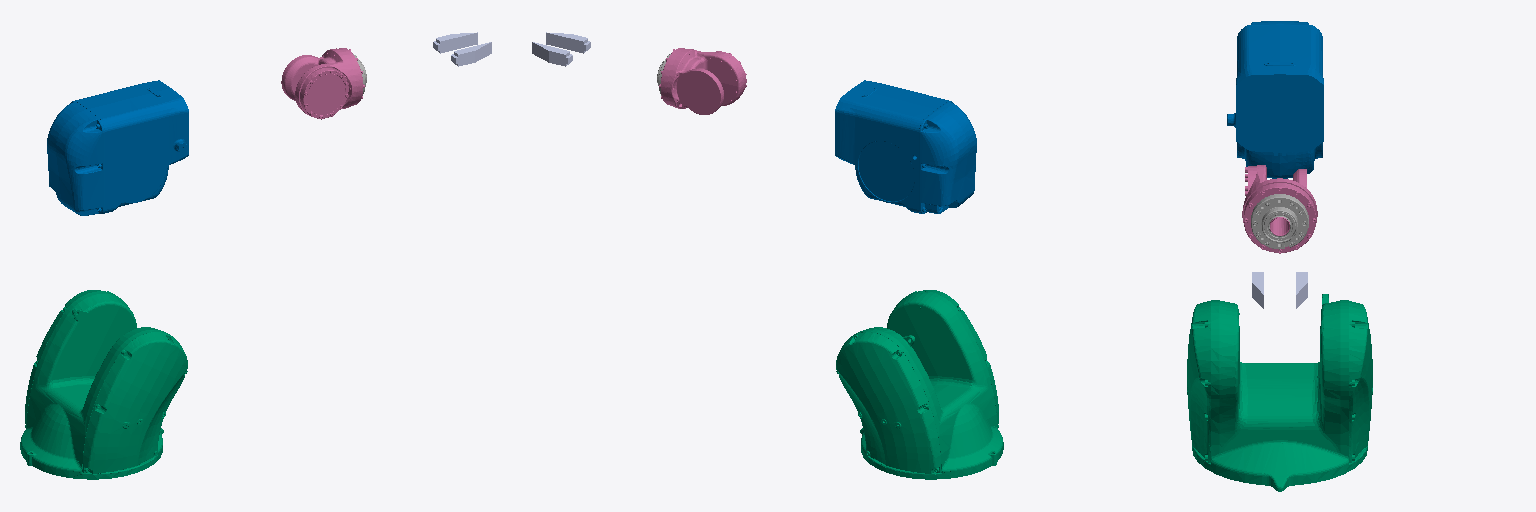
robot.urdf — mz07:
<?xml version="1.0" ?>
<!-- =================================================================================== -->
<!-- |    This document was autogenerated by xacro from [local-path]/catkin_ws/src/ee_assem/robots/mz07/mz07.urdf.xacro | -->
<!-- |    EDITING THIS FILE BY HAND IS NOT RECOMMENDED                                 | -->
<!-- =================================================================================== -->
<robot name="mz07">
    <material name="black">
        <color rgba="0.0 0.0 0.0 1.0" />
    </material>
    <material name="blue">
        <color rgba="0.0 0.0 0.8 1.0" />
    </material>
    <material name="green">
        <color rgba="0.0 0.8 0.0 1.0" />
    </material>
    <material name="grey">
        <color rgba="0.2 0.2 0.2 1.0" />
    </material>
    <material name="orange">
        <color rgba="1.0 0.4235294117647059 0.0392156862745098 1.0" />
    </material>
    <material name="brown">
        <color rgba="0.8705882352941177 0.8117647058823529 0.7647058823529411 1.0" />
    </material>
    <material name="red">
        <color rgba="0.8 0.0 0.0 1.0" />
    </material>
    <material name="white">
        <color rgba="1.0 1.0 1.0 1.0" />
    </material>
    <!-- Link -->
    <link name="world" />
    <link name="base_link">
        <visual>
            <geometry>
                <mesh filename="package://nachi_description/meshes/mz07/visual/base_link.dae" />
            </geometry>
        </visual>
        <collision>
            <geometry>
                <mesh filename="package://nachi_description/meshes/mz07/collision/base_link.stl" />
            </geometry>
        </collision>
        <inertial>
            <mass value="9.522365" />
            <inertia ixx="0.144495" ixy="-9e-06" ixz="-0.03076" iyy="0.183352" iyz="-3.7e-05" izz="0.079873" />
            <origin xyz="0 0 0" rpy="0 0 0" />
        </inertial>
    </link>
    <link name="link_1">
        <visual>
            <geometry>
                <mesh filename="package://nachi_description/meshes/mz07/visual/link_1.dae" />
            </geometry>
        </visual>
        <collision>
            <geometry>
                <mesh filename="package://nachi_description/meshes/mz07/collision/link_1.stl" />
            </geometry>
        </collision>
        <inertial>
            <mass value="5.61696" />
            <inertia ixx="0.087433" ixy="0.0" ixz="0.013287" iyy="0.073064" iyz="1.9e-05" izz="0.039829" />
            <origin xyz="0 0 0" rpy="0 0 0" />
        </inertial>
    </link>
    <link name="link_2">
        <visual>
            <geometry>
                <mesh filename="package://nachi_description/meshes/mz07/visual/link_2.dae" />
            </geometry>
        </visual>
        <collision>
            <geometry>
                <mesh filename="package://nachi_description/meshes/mz07/collision/link_2.stl" />
            </geometry>
        </collision>
        <inertial>
            <mass value="7.350069" />
            <inertia ixx="0.299465" ixy="-1e-05" ixz="-0.012735" iyy="0.279554" iyz="5.3e-05" izz="0.035911" />
            <origin xyz="0 0 0" rpy="0 0 0" />
        </inertial>
    </link>
    <link name="link_3">
        <visual>
            <geometry>
                <mesh filename="package://nachi_description/meshes/mz07/visual/link_3.dae" />
            </geometry>
        </visual>
        <collision>
            <geometry>
                <mesh filename="package://nachi_description/meshes/mz07/collision/link_3.stl" />
            </geometry>
        </collision>
        <inertial>
            <mass value="3.724767" />
            <inertia ixx="0.011733" ixy="4.3e-05" ixz="0.000461" iyy="0.019531" iyz="2.4e-05" izz="0.014154" />
            <origin xyz="0 0 0" rpy="0 0 0" />
        </inertial>
    </link>
    <link name="link_4">
        <visual>
            <geometry>
                <mesh filename="package://nachi_description/meshes/mz07/visual/link_4.dae" />
            </geometry>
        </visual>
        <collision>
            <geometry>
                <mesh filename="package://nachi_description/meshes/mz07/collision/link_4.stl" />
            </geometry>
        </collision>
        <inertial>
            <mass value="3.245188" />
            <inertia ixx="0.007141" ixy="0.000562" ixz="0.000255" iyy="0.054197" iyz="2.4e-05" izz="0.056111" />
            <origin xyz="0 0 0" rpy="0 0 0" />
        </inertial>
    </link>
    <link name="link_5">
        <visual>
            <geometry>
                <mesh filename="package://nachi_description/meshes/mz07/visual/link_5.dae" />
            </geometry>
        </visual>
        <collision>
            <geometry>
                <mesh filename="package://nachi_description/meshes/mz07/collision/link_5.stl" />
            </geometry>
        </collision>
        <inertial>
            <mass value="0.501938" />
            <inertia ixx="0.000539" ixy="1e-06" ixz="0.0" iyy="0.000892" iyz="-1e-06" izz="0.000962" />
            <origin xyz="0 0 0" rpy="0 0 0" />
        </inertial>
    </link>
    <link name="link_6">
        <visual>
            <geometry>
                <mesh filename="package://nachi_description/meshes/mz07/visual/link_6.dae" />
            </geometry>
        </visual>
        <collision>
            <geometry>
                <mesh filename="package://nachi_description/meshes/mz07/collision/link_6.stl" />
            </geometry>
        </collision>
        <inertial>
            <mass value="0.038575" />
            <inertia ixx="0.0005" ixy="0.0" ixz="0.0" iyy="0.0005" iyz="0.0" izz="0.0005" />
            <origin xyz="0 0 0" rpy="0 0 0" />
        </inertial>
    </link>
    <!--link name="end_effector">
        <visual>
            <origin rpy="0 0 0" xyz="0 0 0" />
            <geometry>
            <mesh filename="package://nachi_description/meshes/mz07/visual/end_effector.dae"/>
            </geometry>
        </visual>
        <collision>
            <origin rpy="0 0 0" xyz="0 0 0" />
            <geometry>
            <mesh filename="package://nachi_description/meshes/mz07/collision/end_effector.stl"/>
            </geometry>
        </collision>
        <inertial>
            <mass value="1.131"/>
            <inertia ixx="0.001409824" ixy="-0.00001251546" ixz="0.00095534357" iyy="0.0137" iyz="-0.00000361605" izz="0.0020676187"/>
        </inertial>
      </link-->
    <link name="end_eff">
        <inertial>
            <origin rpy="0 0 0" xyz="8.3267E-17 0 0.096992" />
            <mass value="0.24537" />
            <inertia ixx="0.0006313" ixy="8.5962E-21" ixz="-5.1617E-19" iyy="0.00085607" iyz="-6.1777E-20" izz="0.00041783" />
        </inertial>
        <visual>
            <origin rpy="0 0 0" xyz="0 0 0" />
            <geometry>
                <mesh filename="package://ee_assem/meshes/end_eff.STL" />
            </geometry>
            <material name="">
                <color rgba="0.79216 0.81961 0.93333 1" />
            </material>
        </visual>
        <collision>
            <origin rpy="0 0 0" xyz="0 0 0" />
            <geometry>
                <mesh filename="package://ee_assem/meshes/end_eff.STL" />
            </geometry>
        </collision>
    </link>
    <link name="claw_1">
        <inertial>
            <origin rpy="0 0 0" xyz="0.024057 0.01 0.0065931" />
            <mass value="0.0153" />
            <inertia ixx="7.6554E-07" ixy="3.2083E-23" ixz="3.3914E-07" iyy="4.494E-06" iyz="-3.0551E-23" izz="4.711E-06" />
        </inertial>
        <visual>
            <origin rpy="0 0 0" xyz="0 -0.01 0" />
            <geometry>
                <mesh filename="package://ee_assem/meshes/claw_1.STL" />
            </geometry>
            <material name="">
                <color rgba="0.79216 0.81961 0.93333 1" />
            </material>
        </visual>
        <collision>
            <origin rpy="0 0 0" xyz="0 -0.01 0" />
            <geometry>
                <mesh filename="package://ee_assem/meshes/claw_1.STL" />
            </geometry>
        </collision>
    </link>
    <joint name="joint_claw_1" type="prismatic">
        <origin rpy="0 -1.5708 0" xyz="0 0 0.163" />
        <parent link="end_eff" />
        <child link="claw_1" />
        <axis xyz="0 0 1" />
        <limit effort="20" lower="0.01" upper="0.03" velocity="2" />
    </joint>
    <link name="claw_2">
        <inertial>
            <origin rpy="0 0 0" xyz="0.024057 0.01 0.0065931" />
            <mass value="0.0153" />
            <inertia ixx="7.6554E-07" ixy="7.0525E-23" ixz="3.3914E-07" iyy="4.494E-06" iyz="-7.8524E-24" izz="4.711E-06" />
        </inertial>
        <visual>
            <origin rpy="0 0 0" xyz="0 -0.01 0" />
            <geometry>
                <mesh filename="package://ee_assem/meshes/claw_2.STL" />
            </geometry>
            <material name="">
                <color rgba="0.79216 0.81961 0.93333 1" />
            </material>
        </visual>
        <collision>
            <origin rpy="0 0 0" xyz="0 -0.01 0" />
            <geometry>
                <mesh filename="package://ee_assem/meshes/claw_2.STL" />
            </geometry>
        </collision>
    </link>
    <joint name="joint_claw_2" type="prismatic">
        <origin rpy="3.1416 -1.5708 0" xyz="0 0 0.163" />
        <parent link="end_eff" />
        <child link="claw_2" />
        <axis xyz="0 0 1" />
        <limit effort="20" lower="0.01" upper="0.03" velocity="2" />
    </joint>
    <link name="tool0" />
    <!-- Joint -->
    <joint name="world" type="fixed">
        <parent link="world" />
        <child link="base_link" />
    </joint>
    <joint name="J1" type="revolute">
        <origin rpy="0 0 0" xyz="0 0 0.197" />
        <parent link="base_link" />
        <child link="link_1" />
        <axis xyz="0 0 1" />
        <dynamics damping="0.7" friction="0.7" />
        <limit effort="30.0" lower="-2.96705981" upper="2.96705981" velocity="7.85398185" />
    </joint>
    <joint name="J2" type="revolute">
        <origin rpy="0 0 0" xyz="0.05 0 0.148" />
        <parent link="link_1" />
        <child link="link_2" />
        <axis xyz="0 1 0" />
        <dynamics damping="0.7" friction="0.7" />
        <limit effort="30.0" lower="-1.39626344" upper="2.356194555" velocity="6.63225134" />
    </joint>
    <joint name="J3" type="revolute">
        <origin rpy="0 0 0" xyz="0 0 0.33" />
        <parent link="link_2" />
        <child link="link_3" />
        <axis xyz="0 1 0" />
        <dynamics damping="0.7" friction="0.7" />
        <limit effort="30.0" lower="-3.14159274" upper="0.8028514780000001" velocity="9.07571236" />
    </joint>
    <joint name="J4" type="revolute">
        <origin rpy="0 0 0" xyz="0.09 0 0.045" />
        <parent link="link_3" />
        <child link="link_4" />
        <axis xyz="1 0 0" />
        <dynamics damping="0.7" friction="0.7" />
        <limit effort="30.0" lower="-3.31612567" upper="3.31612567" velocity="9.59931115" />
    </joint>
    <joint name="J5" type="revolute">
        <origin rpy="0 0 0" xyz="0.25 0 0" />
        <parent link="link_4" />
        <child link="link_5" />
        <axis xyz="0 1 0" />
        <dynamics damping="0.7" friction="0.7" />
        <limit effort="30.0" lower="-2.09439516" upper="2.09439516" velocity="9.59931115" />
    </joint>
    <joint name="J6" type="revolute">
        <origin rpy="0 0 0" xyz="0.063 0 0" />
        <parent link="link_5" />
        <child link="link_6" />
        <axis xyz="1 0 0" />
        <dynamics damping="0.7" friction="0.7" />
        <limit effort="30.0" lower="-6.28318548" upper="6.28318548" velocity="17.453293" />
    </joint>
    <joint name="joint_ee" type="fixed">
        <origin rpy="1.570796327 0 1.570796327" xyz="0.01 0 0" />
        <parent link="link_6" />
        <child link="end_eff" />
    </joint>
    <joint name="tool0_ee" type="fixed">
        <origin rpy="3.141592654 -1.570796327 0" xyz="0.21 0 0" />
        <parent link="link_6" />
        <child link="tool0" />
    </joint>
    <transmission name="transmission_1">
        <type>transmission_interface/SimpleTransmission</type>
        <joint name="J1">
            <!-- TODO -->
            <hardwareInterface>hardware_interface/PositionJointInterface</hardwareInterface>
        </joint>
        <actuator name="motor_1">
            <hardwareInterface>hardware_interface/PositionJointInterface</hardwareInterface>
            <mechanicalReduction>1</mechanicalReduction>
        </actuator>
    </transmission>
    <transmission name="transmission_2">
        <type>transmission_interface/SimpleTransmission</type>
        <joint name="J2">
            <!-- TODO -->
            <hardwareInterface>hardware_interface/PositionJointInterface</hardwareInterface>
        </joint>
        <actuator name="motor_2">
            <hardwareInterface>hardware_interface/PositionJointInterface</hardwareInterface>
            <mechanicalReduction>1</mechanicalReduction>
        </actuator>
    </transmission>
    <transmission name="transmission_3">
        <type>transmission_interface/SimpleTransmission</type>
        <joint name="J3">
            <!-- TODO -->
            <hardwareInterface>hardware_interface/PositionJointInterface</hardwareInterface>
        </joint>
        <actuator name="motor_3">
            <hardwareInterface>hardware_interface/PositionJointInterface</hardwareInterface>
            <mechanicalReduction>1</mechanicalReduction>
        </actuator>
    </transmission>
    <transmission name="transmission_4">
        <type>transmission_interface/SimpleTransmission</type>
        <joint name="J4">
            <!-- TODO -->
            <hardwareInterface>hardware_interface/PositionJointInterface</hardwareInterface>
        </joint>
        <actuator name="motor_4">
            <hardwareInterface>hardware_interface/PositionJointInterface</hardwareInterface>
            <mechanicalReduction>1</mechanicalReduction>
        </actuator>
    </transmission>
    <transmission name="transmission_5">
        <type>transmission_interface/SimpleTransmission</type>
        <joint name="J5">
            <!-- TODO -->
            <hardwareInterface>hardware_interface/PositionJointInterface</hardwareInterface>
        </joint>
        <actuator name="motor_5">
            <hardwareInterface>hardware_interface/PositionJointInterface</hardwareInterface>
            <mechanicalReduction>1</mechanicalReduction>
        </actuator>
    </transmission>
    <transmission name="transmission_6">
        <type>transmission_interface/SimpleTransmission</type>
        <joint name="J6">
            <!-- TODO -->
            <hardwareInterface>hardware_interface/PositionJointInterface</hardwareInterface>
        </joint>
        <actuator name="motor_6">
            <hardwareInterface>hardware_interface/PositionJointInterface</hardwareInterface>
            <mechanicalReduction>1</mechanicalReduction>
        </actuator>
    </transmission>
    <transmission name="claw_1_trans">
        <type>transmission_interface/SimpleTransmission</type>
        <joint name="joint_claw_1">
            <hardwareInterface>hardware_interface/PositionJointInterface</hardwareInterface>
        </joint>
        <actuator name="claw_1_motor">
            <hardwareInterface>hardware_interface/PositionJointInterface</hardwareInterface>
            <mechanicalReduction>1</mechanicalReduction>
        </actuator>
    </transmission>
    <transmission name="claw_2_trans">
        <type>transmission_interface/SimpleTransmission</type>
        <joint name="joint_claw_2">
            <hardwareInterface>hardware_interface/PositionJointInterface</hardwareInterface>
        </joint>
        <actuator name="claw_2_motor">
            <hardwareInterface>hardware_interface/PositionJointInterface</hardwareInterface>
            <mechanicalReduction>1</mechanicalReduction>
        </actuator>
    </transmission>
    <!-- gazebo -->
    <gazebo>
        <plugin filename="libgazebo_ros_control.so" name="gazebo_ros_control">
            <robotNamespace>/mz07</robotNamespace>
            <robotSimType>gazebo_ros_control/DefaultRobotHWSim</robotSimType>
        </plugin>
    </gazebo>
    <gazebo reference="base_link">
        <mu1>0.2</mu1>
        <mu2>0.2</mu2>
        <selfCollide>true</selfCollide>
        <turnGravityOff>true</turnGravityOff>
        <canonical>0</canonical>
        <kinematic>1</kinematic>
    </gazebo>
    <gazebo reference="link_1">
        <mu1>0.2</mu1>
        <mu2>0.2</mu2>
        <selfCollide>true</selfCollide>
        <turnGravityOff>true</turnGravityOff>
        <canonical>0</canonical>
        <kinematic>1</kinematic>
    </gazebo>
    <gazebo reference="link_2">
        <mu1>0.2</mu1>
        <mu2>0.2</mu2>
        <selfCollide>true</selfCollide>
        <turnGravityOff>true</turnGravityOff>
        <canonical>0</canonical>
        <kinematic>1</kinematic>
    </gazebo>
    <gazebo reference="link_3">
        <mu1>0.2</mu1>
        <mu2>0.2</mu2>
        <selfCollide>true</selfCollide>
        <turnGravityOff>true</turnGravityOff>
        <canonical>0</canonical>
        <kinematic>1</kinematic>
    </gazebo>
    <gazebo reference="link_4">
        <mu1>0.2</mu1>
        <mu2>0.2</mu2>
        <selfCollide>true</selfCollide>
        <turnGravityOff>true</turnGravityOff>
        <canonical>0</canonical>
        <kinematic>1</kinematic>
    </gazebo>
    <gazebo reference="link_5">
        <mu1>0.2</mu1>
        <mu2>0.2</mu2>
        <selfCollide>true</selfCollide>
        <turnGravityOff>true</turnGravityOff>
        <canonical>0</canonical>
        <kinematic>1</kinematic>
    </gazebo>
    <gazebo reference="link_6">
        <mu1>0.2</mu1>
        <mu2>0.2</mu2>
        <selfCollide>true</selfCollide>
        <turnGravityOff>true</turnGravityOff>
        <canonical>0</canonical>
        <kinematic>1</kinematic>
    </gazebo>
    <gazebo reference="end_eff">
        <mu1>0.2</mu1>
        <mu2>0.2</mu2>
        <selfCollide>true</selfCollide>
        <turnGravityOff>true</turnGravityOff>
        <canonical>0</canonical>
        <kinematic>1</kinematic>
    </gazebo>
    <gazebo reference="claw_1">
        <mu1>0.2</mu1>
        <mu2>0.2</mu2>
        <selfCollide>true</selfCollide>
        <turnGravityOff>true</turnGravityOff>
        <canonical>0</canonical>
        <kinematic>1</kinematic>
    </gazebo>
    <gazebo reference="claw_2">
        <mu1>0.2</mu1>
        <mu2>0.2</mu2>
        <selfCollide>true</selfCollide>
        <turnGravityOff>true</turnGravityOff>
        <canonical>0</canonical>
        <kinematic>1</kinematic>
    </gazebo>
</robot>

--- What the picture shows (computed from the rendered views, not written in the file) ---
3 views of the same robot in one strip: view 1: azimuth 30°, elevation 25°; view 2: azimuth 150°, elevation 25°; view 3: azimuth 270°, elevation 25° (orthographic).
Model mz07 with 12 links and 11 joints (6 revolute, 2 prismatic, 3 fixed), rooted at world, posed joints at zero except 2 at the middle of their limits (joint_claw_1 = 0.02, joint_claw_2 = 0.02).
Visible links, largest first — view 1: link_1, link_3, link_5, claw_2, claw_1; view 2: link_1, link_3, link_5, claw_1, claw_2; view 3: link_1, link_3, link_5, link_6.
Link boxes in pixels (<box>): link_1: <box>20,290,187,479</box>; link_3: <box>47,80,188,215</box>; link_5: <box>281,48,364,119</box>; claw_2: <box>433,32,477,53</box>; claw_1: <box>451,42,491,66</box>; link_1: <box>836,290,1003,479</box>; link_3: <box>835,80,976,213</box>; link_5: <box>659,48,746,114</box>; claw_1: <box>546,32,590,53</box>; claw_2: <box>532,42,572,66</box>; link_1: <box>1187,294,1372,491</box>; link_3: <box>1227,21,1323,178</box>; link_5: <box>1242,165,1317,253</box>; link_6: <box>1251,194,1308,249</box>.
Size in the robot's own frame: 0.8065 by 0.23 by 0.577 metres.
6 mesh visuals loaded from 10 distinct referenced files (2 binary STL, 4 Collada DAE); not drawn: 4 (reference not matched to a file when rendering).
